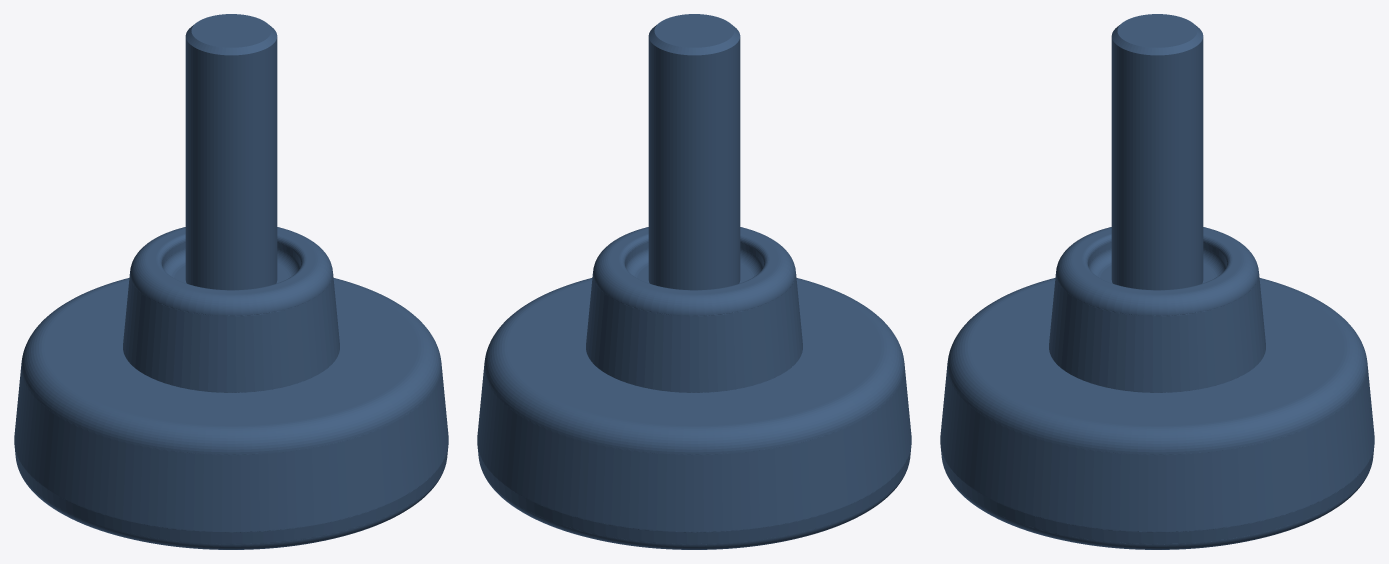
Rendered from VERGE_Model_Refrigerator_10.obj.
The picture shows the model from 3 angles, left to right: view 1: azimuth 30°, elevation 25°; view 2: azimuth 150°, elevation 25°; view 3: azimuth 270°, elevation 25°; orthographic projection.
Parts seen in each view (by area): view 1: VERGE_Model_Refrigerator_10; view 2: VERGE_Model_Refrigerator_10; view 3: VERGE_Model_Refrigerator_10.
Part boxes in pixels (box(x1,y1,x2,y2)): VERGE_Model_Refrigerator_10: box(14, 14, 448, 549); VERGE_Model_Refrigerator_10: box(477, 14, 911, 549); VERGE_Model_Refrigerator_10: box(940, 14, 1374, 549).
Bounding box in the file's own units: 37.99 × 43 × 37.99.
